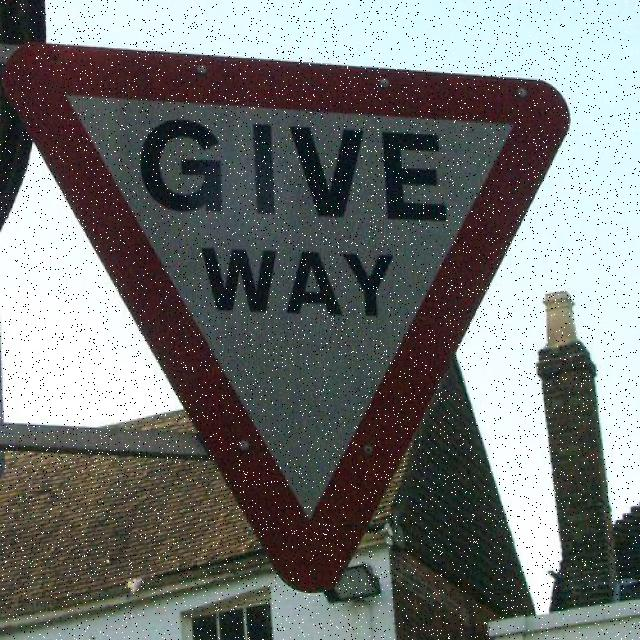giveway: (10, 47, 569, 596)
